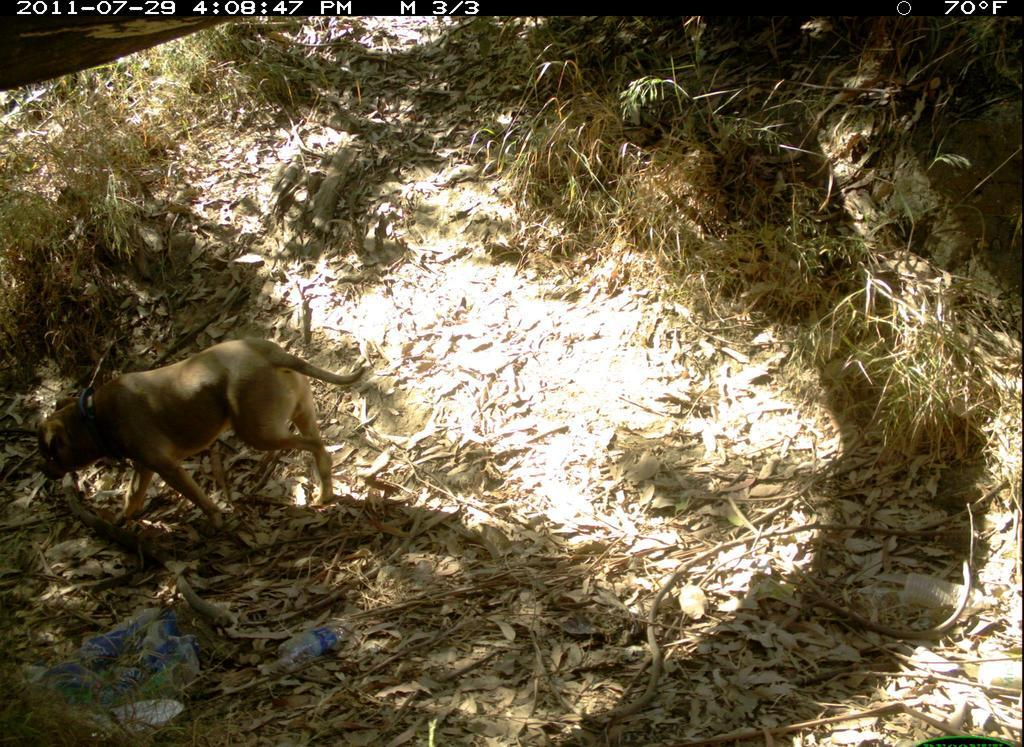dog: (18, 335, 396, 538)
